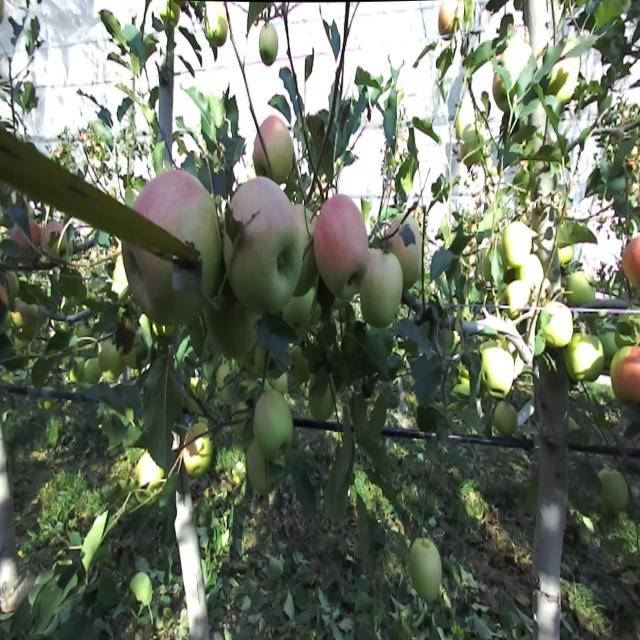apple: (122, 173, 220, 321), (228, 182, 300, 312), (315, 193, 370, 294), (493, 40, 538, 110), (364, 250, 402, 324), (212, 299, 256, 357), (254, 392, 292, 458), (255, 115, 294, 179), (390, 216, 423, 288), (545, 38, 581, 103), (409, 537, 441, 599), (480, 342, 515, 396), (248, 446, 284, 492), (568, 336, 605, 380), (541, 300, 573, 347), (184, 424, 212, 475), (612, 347, 640, 398), (500, 222, 532, 266), (283, 292, 320, 327), (309, 377, 336, 422), (42, 222, 72, 262), (567, 265, 597, 304), (600, 473, 630, 512), (136, 460, 166, 498), (11, 218, 40, 256), (621, 232, 640, 288), (459, 124, 482, 164), (204, 12, 230, 47), (258, 22, 279, 65), (504, 280, 532, 312), (13, 295, 34, 337), (518, 258, 546, 288), (494, 402, 518, 436), (437, 2, 462, 33), (98, 339, 119, 369), (1, 273, 19, 301), (86, 355, 102, 382), (558, 244, 575, 264)
